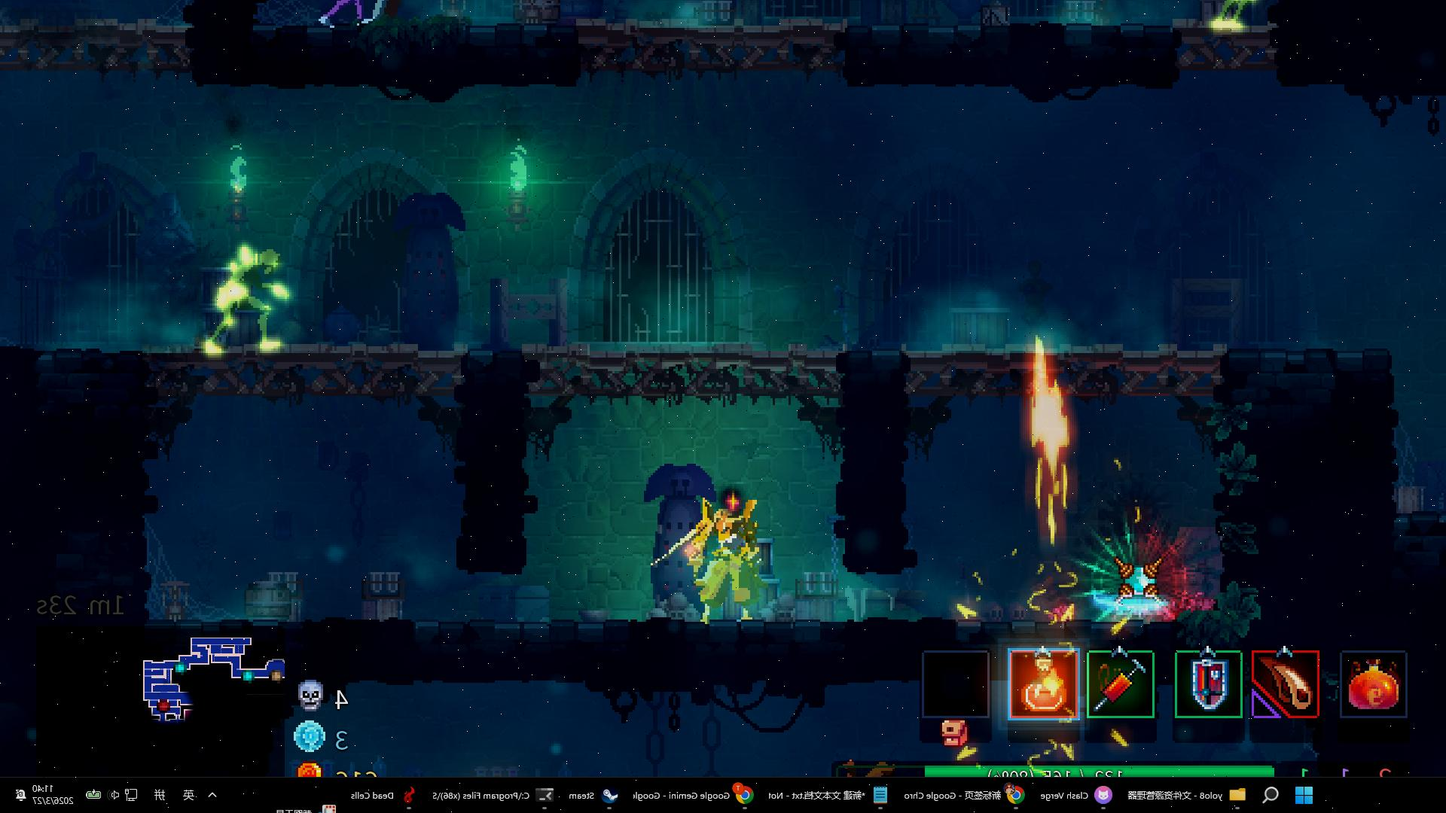gamer: (653, 490, 774, 627)
green1: (194, 237, 295, 358)
